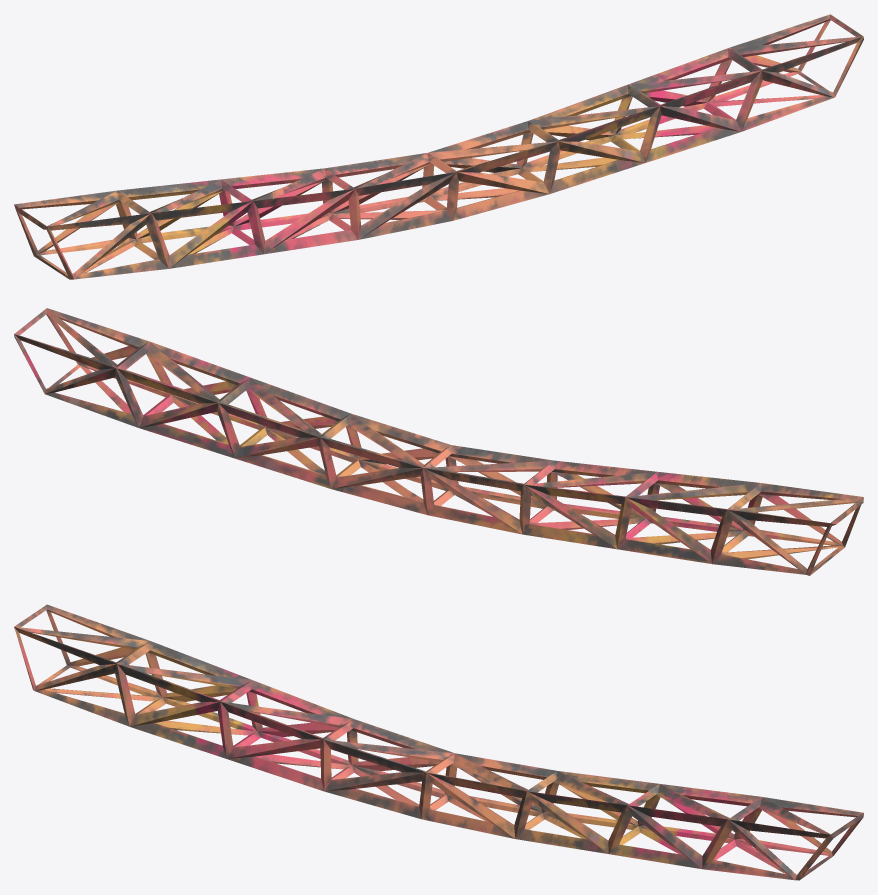
File: truss_01.gltf
3 renders of one model, top to bottom at view 1: azimuth 30°, elevation 25°; view 2: azimuth 150°, elevation 25°; view 3: azimuth 330°, elevation 25°, orthographic.
Parts seen in each view (by area): view 1: Truss01; view 2: Truss01; view 3: Truss01.
Part boxes in pixels (x1,y1,x2,y2): Truss01: (14,14,863,279); Truss01: (14,308,863,575); Truss01: (14,604,863,880).
Size of the model in its own units: 62.97 by 7.03 by 5.13.
1 material, 1 textured.
